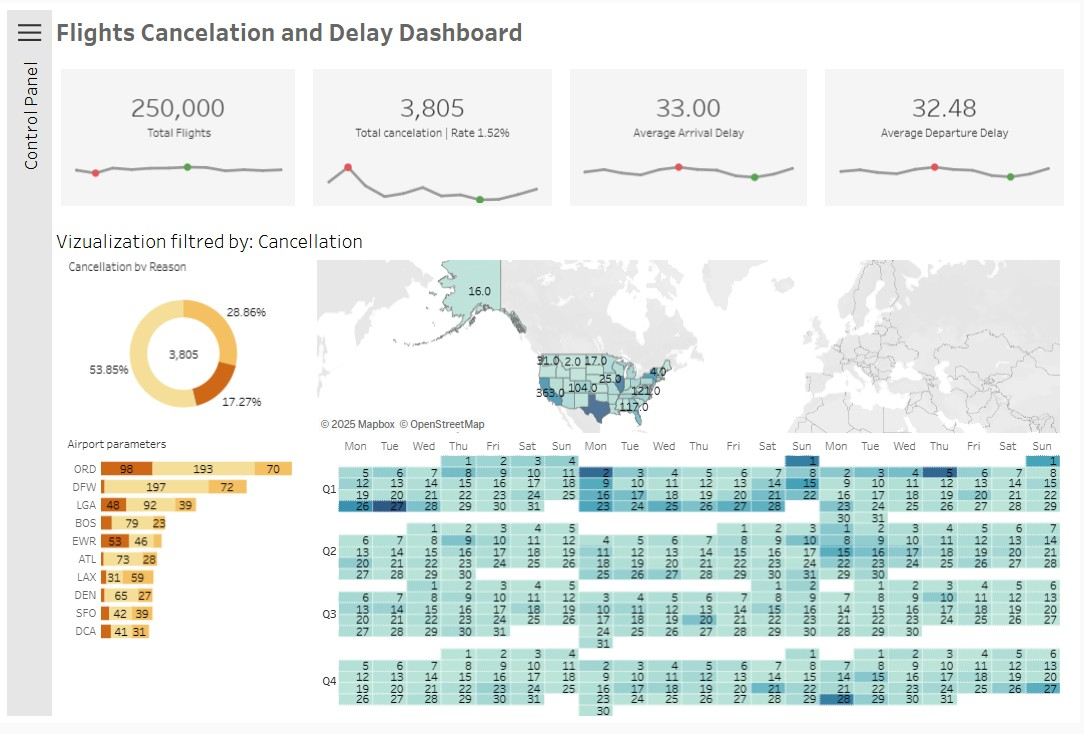

What the dashboard file says about the page in this screenshot:
{"tool":"tableau","page":{"name":"Flight Delays and Cancellations","canvas":[1200,800],"ordinal":0},"visuals":[{"type":"dashboard-object","box":[8,8,50,50]},{"type":"parameter","param":"[Parameters].[Parameter 4]","box":[58,8,200,52]},{"type":"text","box":[258,8,934,45]},{"type":"blank","box":[258,53,934,20]},{"type":"text","box":[8,58,50,134]},{"type":"filter","title":"Map","param":"[federated.1wntubp0o2t0fj1cs109h1oi1se7].[none:STATE:nk]","box":[58,60,200,52]},{"type":"worksheet","title":"KPI - Total Flights","mark":"Automatic","box":[268,73,260,100]},{"type":"worksheet","title":"KPI - Cancellation","mark":"Automatic","box":[548,73,198,100]},{"type":"worksheet","title":"KPI - Average Arrival Delay","mark":"Automatic","box":[766,73,198,100]},{"type":"worksheet","title":"KPI - Average Departure Delay","mark":"Automatic","box":[984,73,198,100]},{"type":"filter","title":"Heat Map","param":"[federated.1wntubp0o2t0fj1cs109h1oi1se7].[mn:Calculation_1601874147643346944:ok]","box":[58,112,200,52]},{"type":"parameter","param":"[Parameters].[Parameter 5]","box":[58,164,200,52]},{"type":"worksheet","title":"Line Flights","mark":"Automatic","rows":["Calculation_1734167387309334528"],"cols":["Calculation_1601874147643346944"],"box":[268,173,260,52]},{"type":"worksheet","title":"Line Cancellation","mark":"Automatic","rows":["Calculation_1734167387309658113"],"cols":["Calculation_1601874147643346944"],"box":[548,173,198,52]},{"type":"worksheet","title":"Line Arrival Delay","mark":"Automatic","rows":["Calculation_1734167387317440517"],"cols":["Calculation_1601874147643346944"],"box":[766,173,198,52]},{"type":"worksheet","title":"Line Departure Delay","mark":"Automatic","rows":["Calculation_1869556851182718986"],"cols":["Calculation_1601874147643346944"],"box":[984,173,198,52]},{"type":"parameter","param":"[Parameters].[Parameter 1]","box":[58,216,200,52]},{"type":"blank","box":[258,225,934,20]},{"type":"text","box":[258,245,934,36]},{"type":"text","box":[58,268,200,25]},{"type":"worksheet","title":"Pie title","mark":"Automatic","box":[268,281,270,20]},{"type":"worksheet","title":"Map","mark":"Multipolygon","box":[548,281,634,200.1]},{"type":"filter","title":"AD Airport","param":"[federated.1wntubp0o2t0fj1cs109h1oi1se7].[none:Calculation_1283244475456339982:n","box":[58,293,200,52]},{"type":"worksheet","title":"AD Pie","mark":"Pie","cols":["Calculation_1436648337412562952","Calculation_1436648337412587530"],"box":[268,301,270,175]},{"type":"worksheet","title":"DD Pie","mark":"Pie","cols":["Calculation_1031887321604190209","Calculation_1031887321604210691"],"box":[268,301,270,175]},{"type":"worksheet","title":"Can. Pie","mark":"Pie","cols":["Calculation_1185854132776849412","Calculation_1185854132776878086"],"box":[268,301,270,175]},{"type":"blank","box":[58,345,200,276]},{"type":"text","box":[268,476,270,25]},{"type":"worksheet","title":"Heat Map","mark":"Square","rows":["Calculation_1601874147643346944","Calculation_1869556851167100928"],"cols":["Calculation_1869556851167629313","Calculation_1601874147643346944"],"box":[548,481.1,634,310.9]},{"type":"worksheet","title":"DD Airport","mark":"Bar","rows":["IATA_CODE (airports.csv)"],"cols":["Calculation_1869556851182718986"],"box":[268,501,270,208]},{"type":"worksheet","title":"AD Airport","mark":"Bar","rows":["IATA_CODE"],"box":[268,501,270,238]},{"type":"worksheet","title":"Can. Airport","mark":"Bar","rows":["Origin Airport"],"cols":["Cancelled"],"box":[268,501,270,208]},{"type":"legend","title":"DD Pie","param":"[federated.1wntubp0o2t0fj1cs109h1oi1se7].[none:Calculation_1283244475456339982:n","box":[58,581,200,146]},{"type":"legend","title":"AD Pie","param":"[federated.1wntubp0o2t0fj1cs109h1oi1se7].[:Measure Names]","box":[58,601,200,126]},{"type":"legend","title":"Can. Pie","param":"[federated.1wntubp0o2t0fj1cs109h1oi1se7].[none:Calculation_1185854132773347330:n","box":[58,621,200,106]},{"type":"worksheet","title":"DD Airline","mark":"Bar","rows":["IATA_CODE (airlines.csv)"],"cols":["Calculation_1869556851182718986"],"box":[268,709,270,9]},{"type":"legend","title":"Heat Map","param":"[federated.1wntubp0o2t0fj1cs109h1oi1se7].[usr:Calculation_1436648337400721411:qk","box":[58,727,200,65]}]}

Visuals, with their boxes in screenshot pixels (x1, y1, x2, y2), scaled from the page's 1200x800 canvas onto the 1084x734 screenshot:
dashboard-object: (x1=7, y1=7, x2=52, y2=53)
parameter: (x1=52, y1=7, x2=233, y2=55)
text: (x1=233, y1=7, x2=1077, y2=49)
blank: (x1=233, y1=49, x2=1077, y2=67)
text: (x1=7, y1=53, x2=52, y2=176)
"Map" filter: (x1=52, y1=55, x2=233, y2=103)
"KPI - Total Flights" worksheet: (x1=242, y1=67, x2=477, y2=159)
"KPI - Cancellation" worksheet: (x1=495, y1=67, x2=674, y2=159)
"KPI - Average Arrival Delay" worksheet: (x1=692, y1=67, x2=871, y2=159)
"KPI - Average Departure Delay" worksheet: (x1=889, y1=67, x2=1068, y2=159)
"Heat Map" filter: (x1=52, y1=103, x2=233, y2=150)
parameter: (x1=52, y1=150, x2=233, y2=198)
"Line Flights" worksheet: (x1=242, y1=159, x2=477, y2=206)
"Line Cancellation" worksheet: (x1=495, y1=159, x2=674, y2=206)
"Line Arrival Delay" worksheet: (x1=692, y1=159, x2=871, y2=206)
"Line Departure Delay" worksheet: (x1=889, y1=159, x2=1068, y2=206)
parameter: (x1=52, y1=198, x2=233, y2=246)
blank: (x1=233, y1=206, x2=1077, y2=225)
text: (x1=233, y1=225, x2=1077, y2=258)
text: (x1=52, y1=246, x2=233, y2=269)
"Pie title" worksheet: (x1=242, y1=258, x2=486, y2=276)
"Map" worksheet (Multipolygon marks): (x1=495, y1=258, x2=1068, y2=441)
"AD Airport" filter: (x1=52, y1=269, x2=233, y2=317)
"AD Pie" worksheet (Pie marks): (x1=242, y1=276, x2=486, y2=437)
"DD Pie" worksheet (Pie marks): (x1=242, y1=276, x2=486, y2=437)
"Can. Pie" worksheet (Pie marks): (x1=242, y1=276, x2=486, y2=437)
blank: (x1=52, y1=317, x2=233, y2=570)
text: (x1=242, y1=437, x2=486, y2=460)
"Heat Map" worksheet (Square marks): (x1=495, y1=441, x2=1068, y2=727)
"DD Airport" worksheet (Bar marks): (x1=242, y1=460, x2=486, y2=651)
"AD Airport" worksheet (Bar marks): (x1=242, y1=460, x2=486, y2=678)
"Can. Airport" worksheet (Bar marks): (x1=242, y1=460, x2=486, y2=651)
"DD Pie" legend: (x1=52, y1=533, x2=233, y2=667)
"AD Pie" legend: (x1=52, y1=551, x2=233, y2=667)
"Can. Pie" legend: (x1=52, y1=570, x2=233, y2=667)
"DD Airline" worksheet (Bar marks): (x1=242, y1=651, x2=486, y2=659)
"Heat Map" legend: (x1=52, y1=667, x2=233, y2=727)
